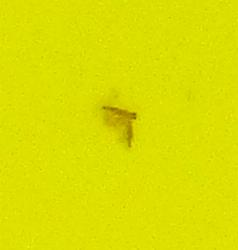Trichoptera: (100, 100, 138, 150)
